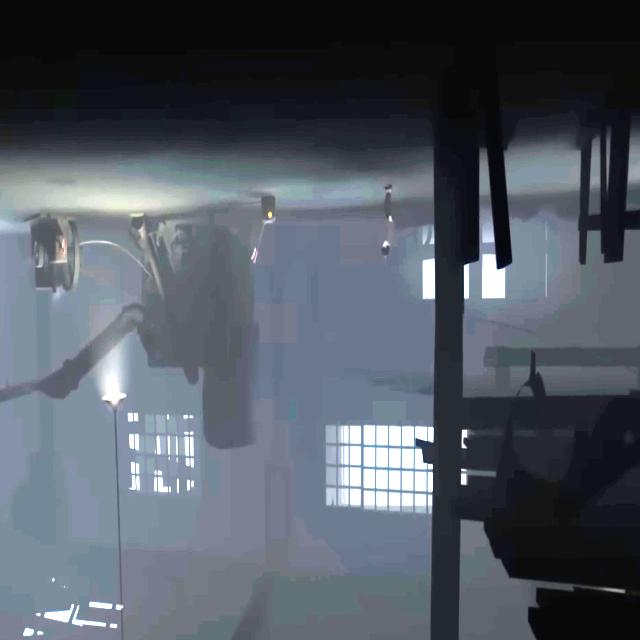boy: (380, 182, 396, 258)
